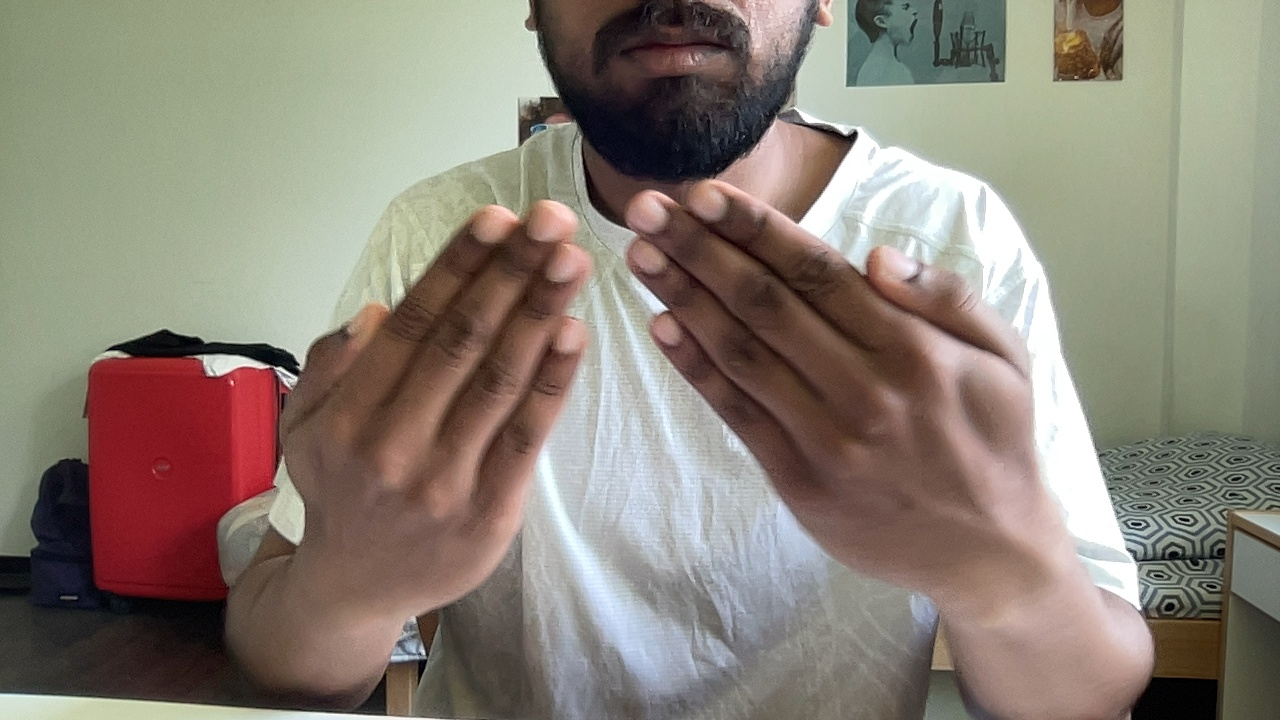ThankYou: (274, 179, 1036, 615)
